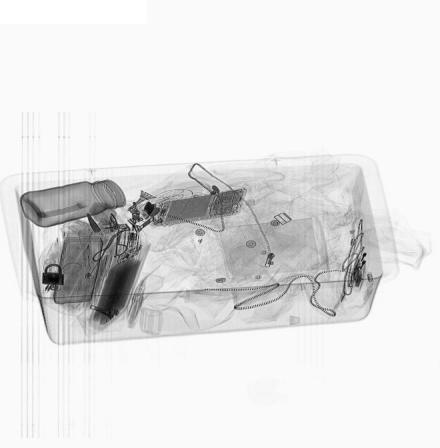Lighter: (81, 223, 130, 238)
Scissors: (91, 226, 132, 262)
